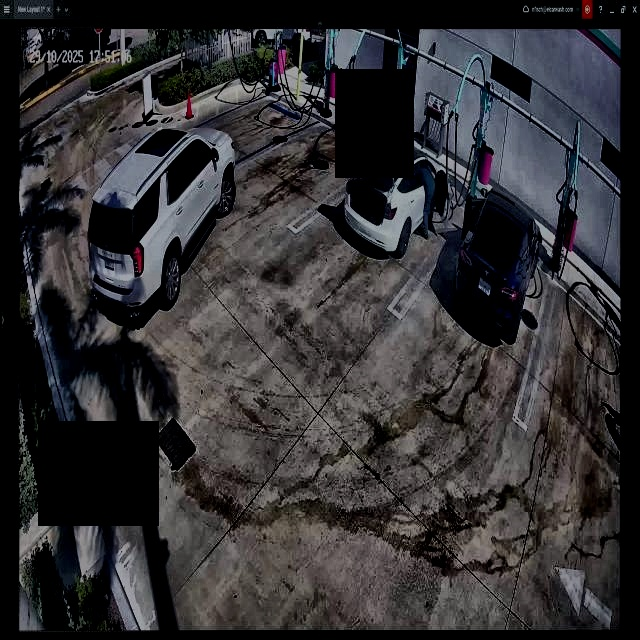Car: (89, 126, 236, 312), (344, 132, 444, 266), (458, 195, 543, 344)
